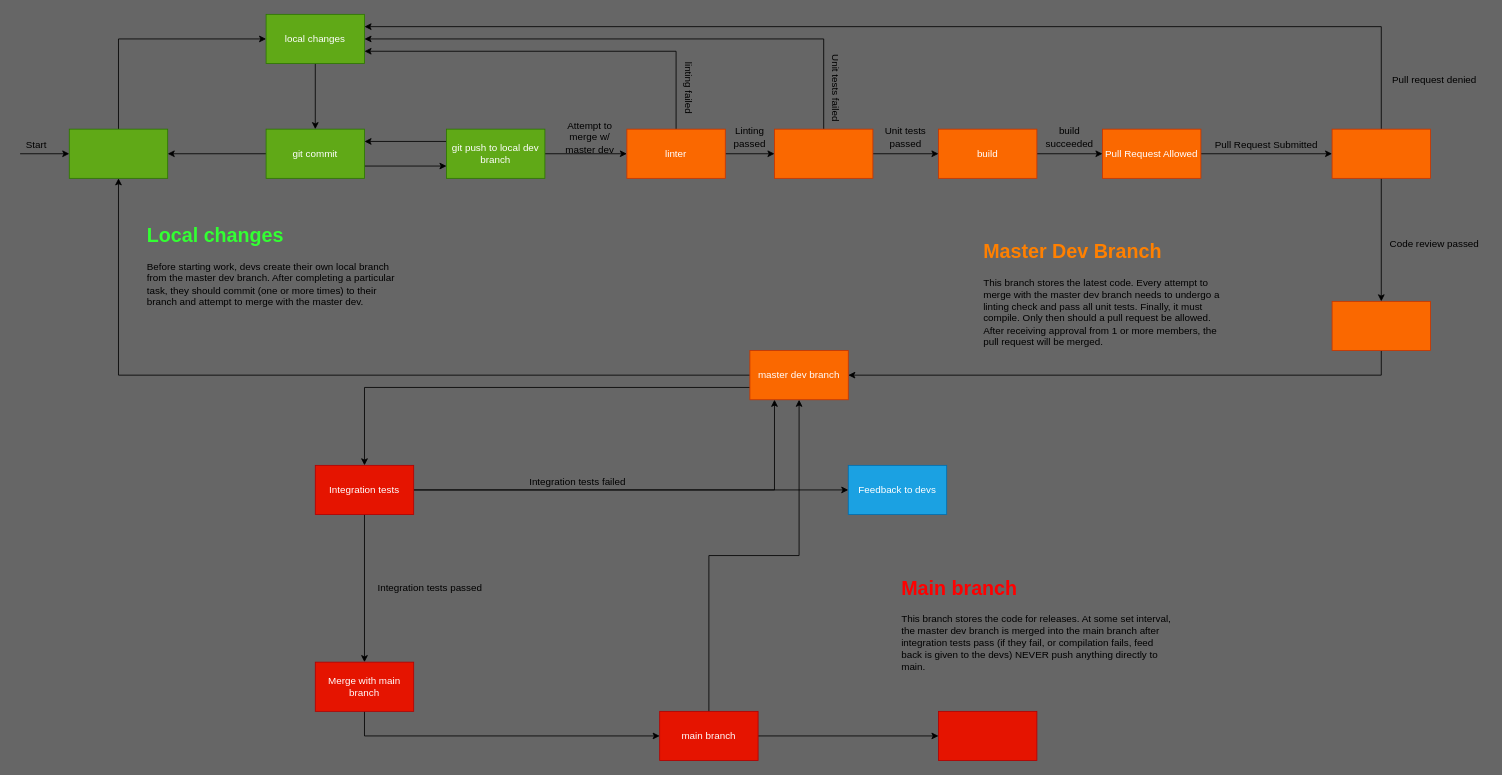
This 1502x775 diagram has some shape labels left out. The box of each missing label's shape, as (x1, y1, x2, y2) in pixels:
git pull from master dev branch: (68, 128, 168, 178)
Manual code review (1 or more approvals): (1331, 128, 1430, 178)
Merge to master branch: (1331, 301, 1430, 351)
unit tests: (774, 128, 873, 178)
Update website: (938, 711, 1037, 761)
